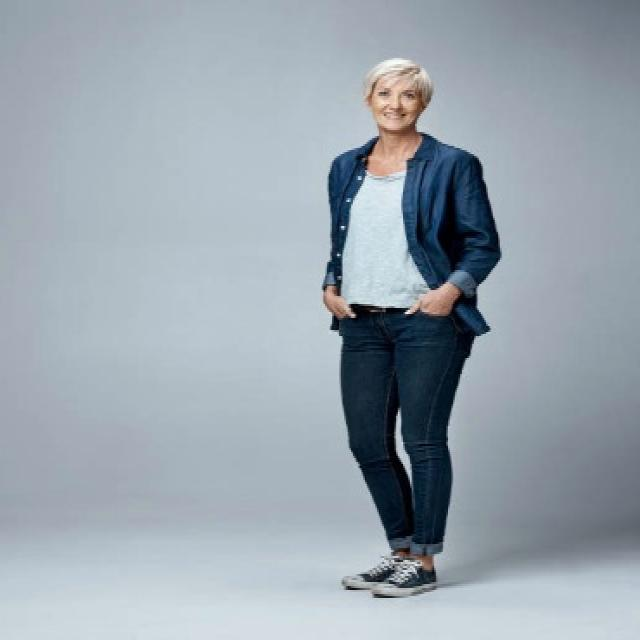adult: (331, 44, 495, 601)
